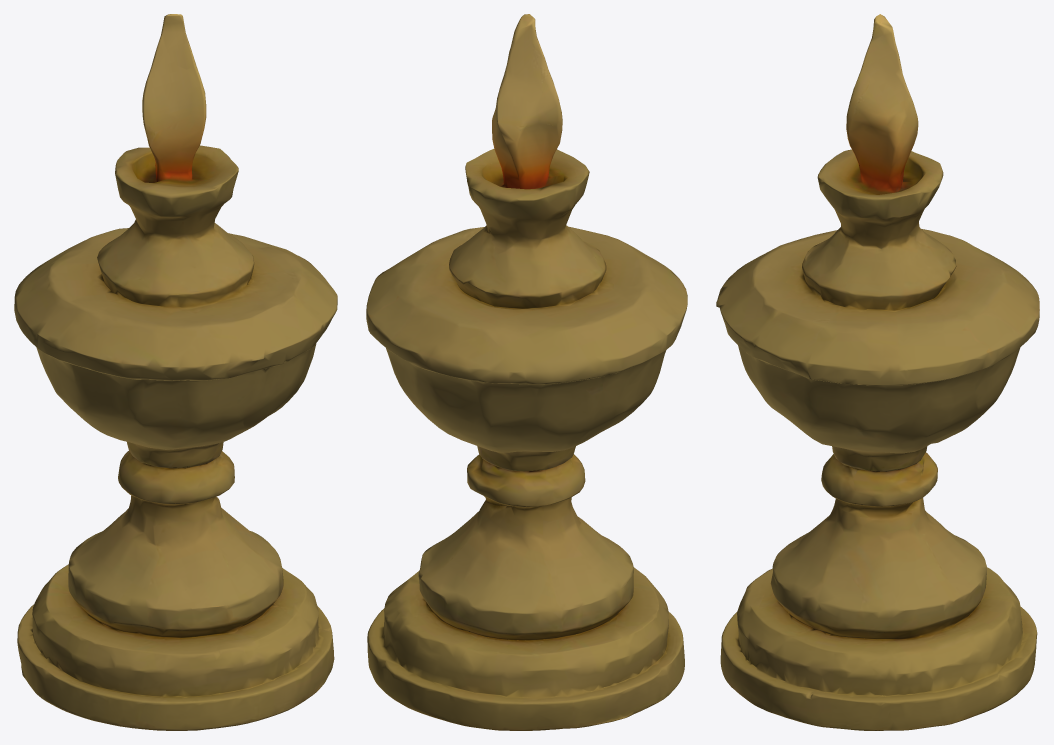
The picture shows the model from 3 angles, left to right: view 1: azimuth 30°, elevation 25°; view 2: azimuth 150°, elevation 25°; view 3: azimuth 270°, elevation 25°; orthographic projection.
Visible parts, largest first — view 1: tripo_node_284d83e1-fe37-4996-9098-9cfecde910f6; view 2: tripo_node_284d83e1-fe37-4996-9098-9cfecde910f6; view 3: tripo_node_284d83e1-fe37-4996-9098-9cfecde910f6.
Boxes of the visible parts, x1,y1,x2,y2 form: tripo_node_284d83e1-fe37-4996-9098-9cfecde910f6: [14, 14, 337, 730]; tripo_node_284d83e1-fe37-4996-9098-9cfecde910f6: [366, 14, 687, 730]; tripo_node_284d83e1-fe37-4996-9098-9cfecde910f6: [716, 14, 1039, 730].
Bounding box in the file's own units: 0.0981 × 0.22 × 0.0992.
Materials: 1 (1 with a texture image).
